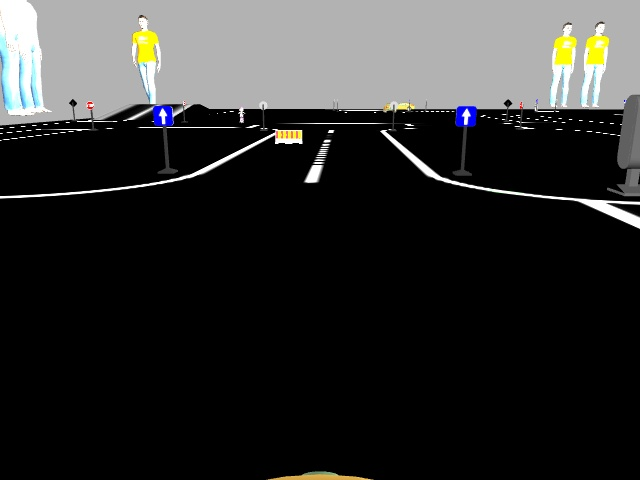ClosedRoadStand: (274, 129, 302, 142)
OneWay: (457, 108, 476, 127), (153, 107, 172, 125)
